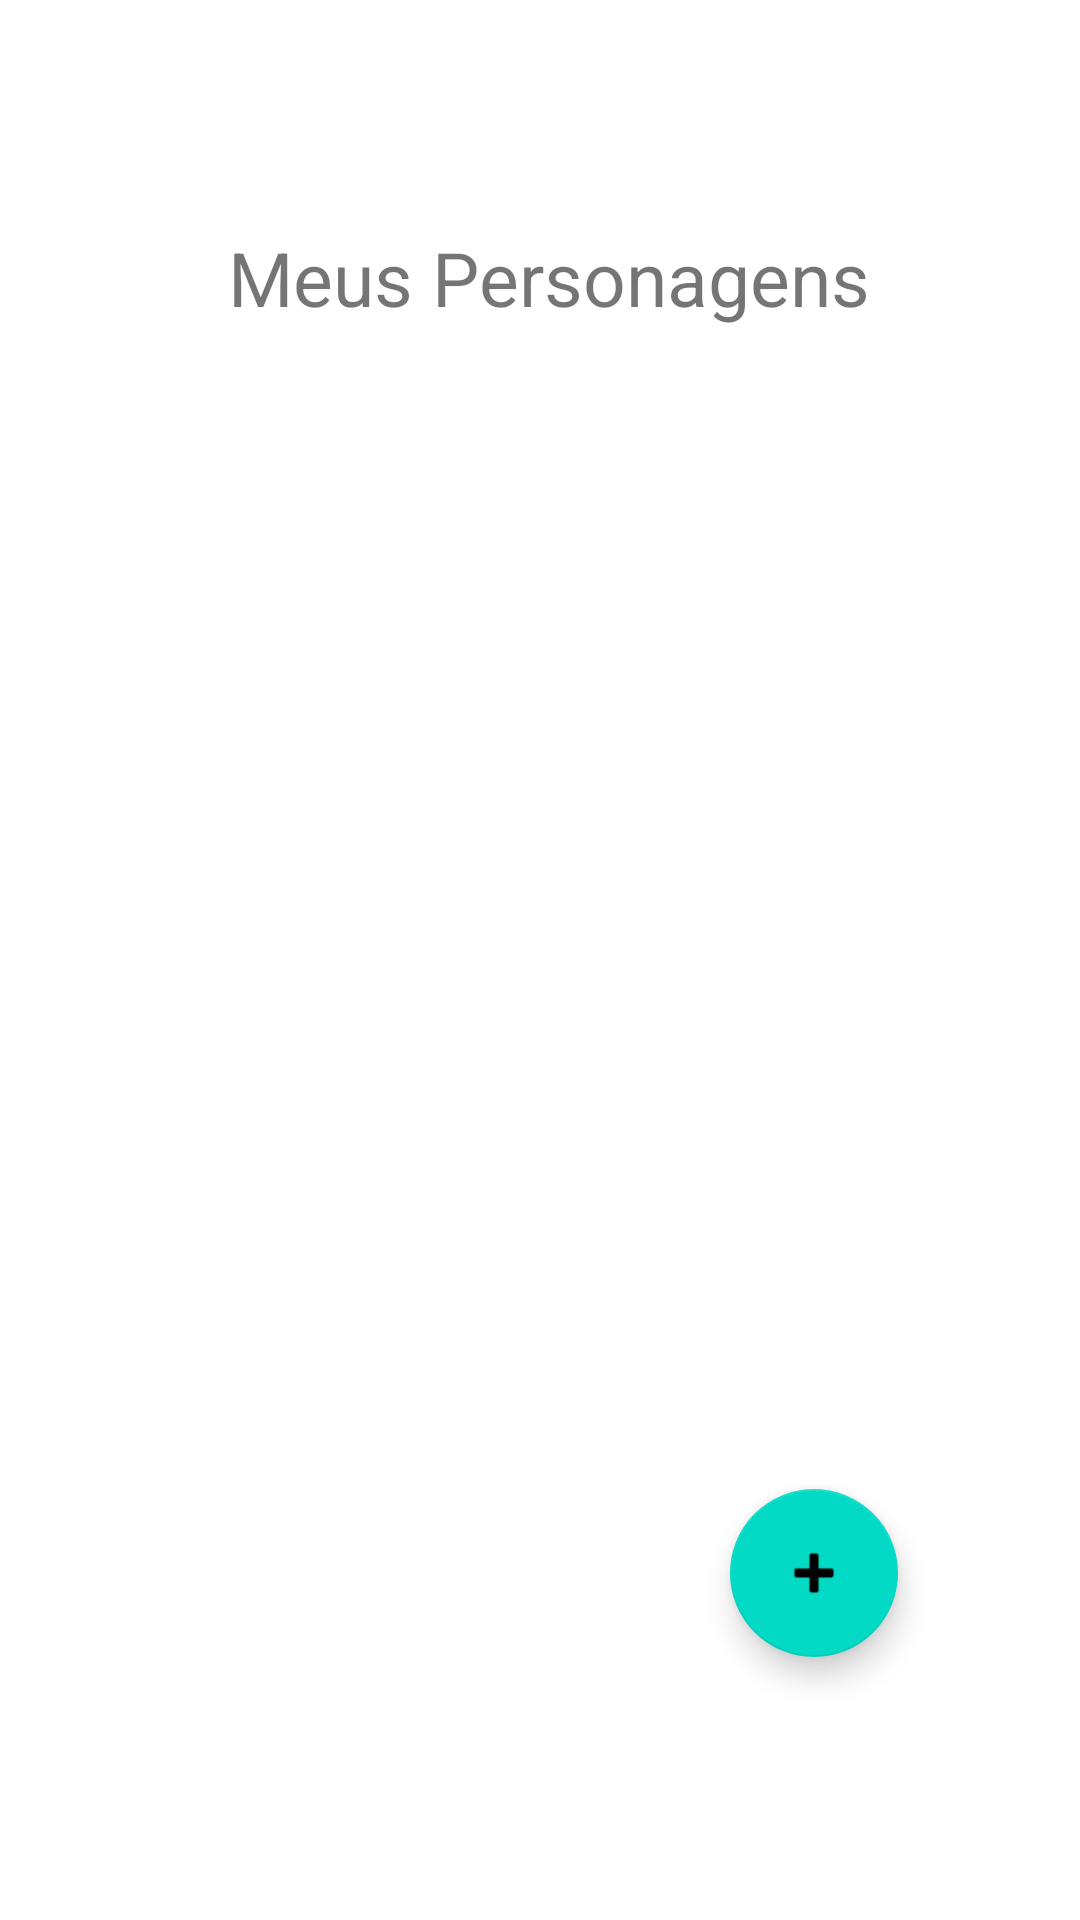

Icons on this 1080 × 1920 Android screen, each with the point to tap as point (x, y):
Add Char: point (814, 1573)
